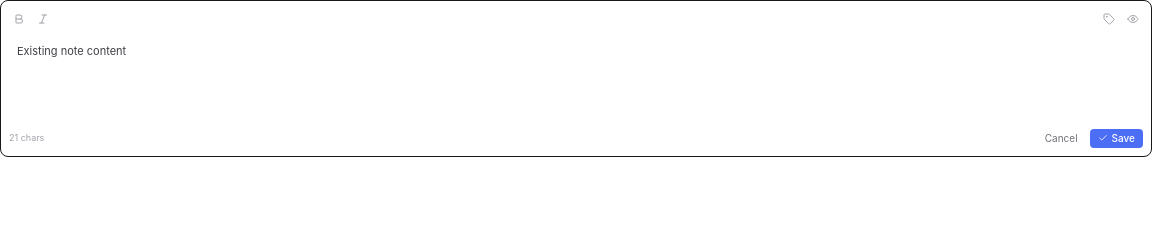
NoteEditor › tag management › removes a tag when the X button is clicked
Click the button titled "Add tags": (1109, 19) [1099, 9, 1119, 29]
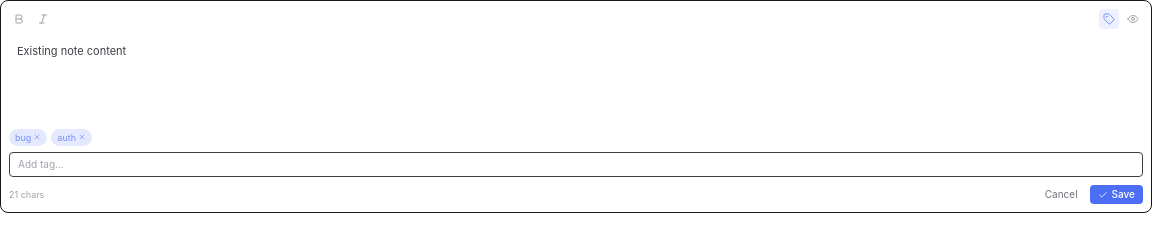
Now the button without text next to "auth" is shown
Click the button without text next to "auth": (82, 137) [78, 133, 86, 141]
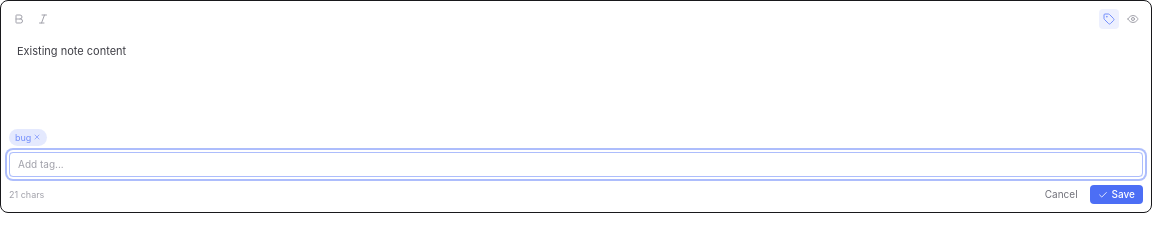
Now the text "auth" is gone
